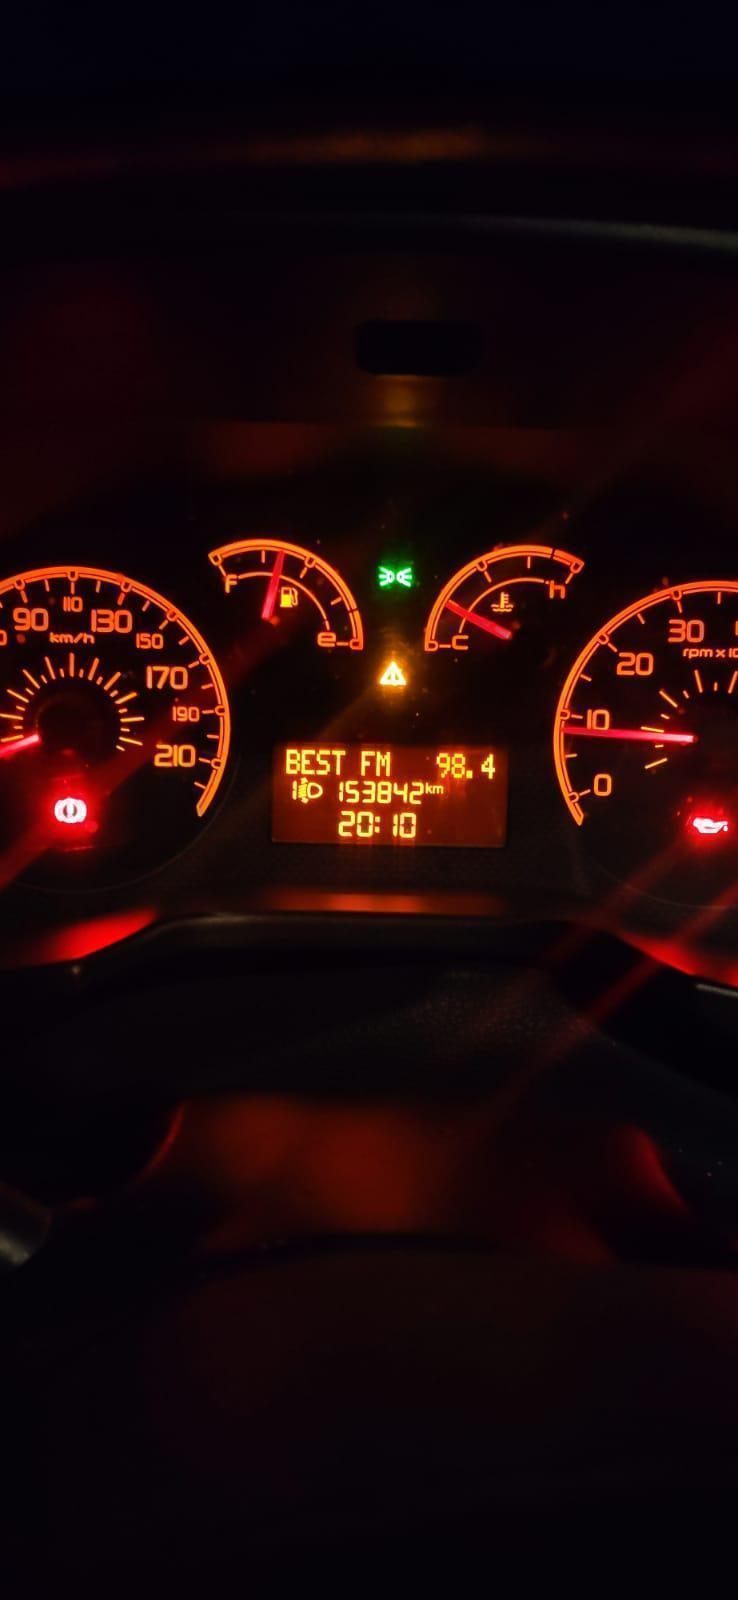,: (465, 768, 475, 780)
0: (399, 812, 417, 839), (356, 809, 373, 839)
1: (389, 809, 399, 840), (289, 777, 297, 802), (337, 779, 344, 804)
2: (337, 808, 355, 838), (409, 779, 423, 806)
3: (362, 779, 376, 803)
4: (480, 750, 497, 782), (393, 779, 408, 805)
5: (345, 778, 360, 805)
8: (451, 751, 465, 780), (377, 779, 392, 805)
9: (435, 751, 451, 777)
X: (330, 747, 348, 777), (374, 749, 393, 777), (284, 746, 300, 776), (300, 746, 315, 776), (359, 747, 375, 777), (316, 747, 330, 776), (373, 813, 382, 836), (433, 783, 444, 795), (424, 780, 432, 794)
odometer: (270, 739, 508, 849)
